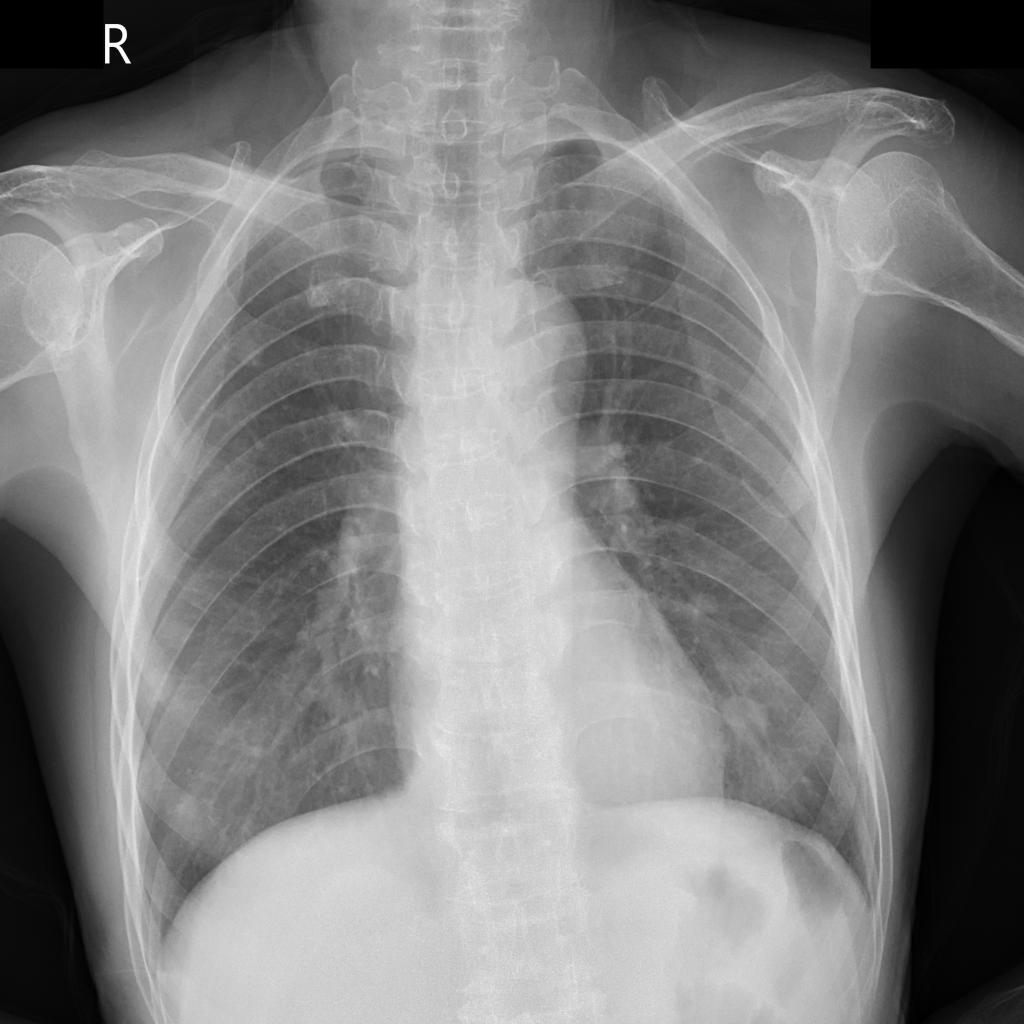Nodule: (719, 693, 770, 750), (319, 675, 363, 722), (143, 669, 174, 703), (162, 620, 194, 650), (241, 341, 266, 367), (696, 591, 722, 615), (356, 749, 378, 775), (769, 668, 791, 689), (699, 381, 719, 399)
